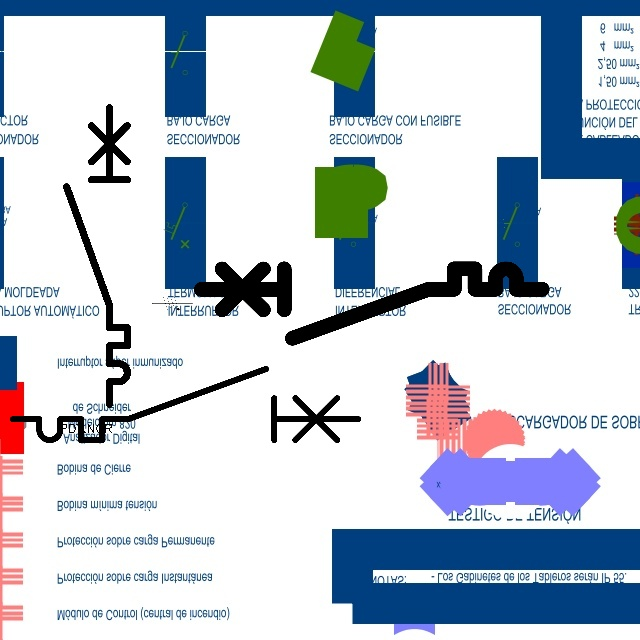interruptor_termomagnetico: (4, 360, 367, 449), (192, 260, 550, 347), (59, 100, 135, 412)
